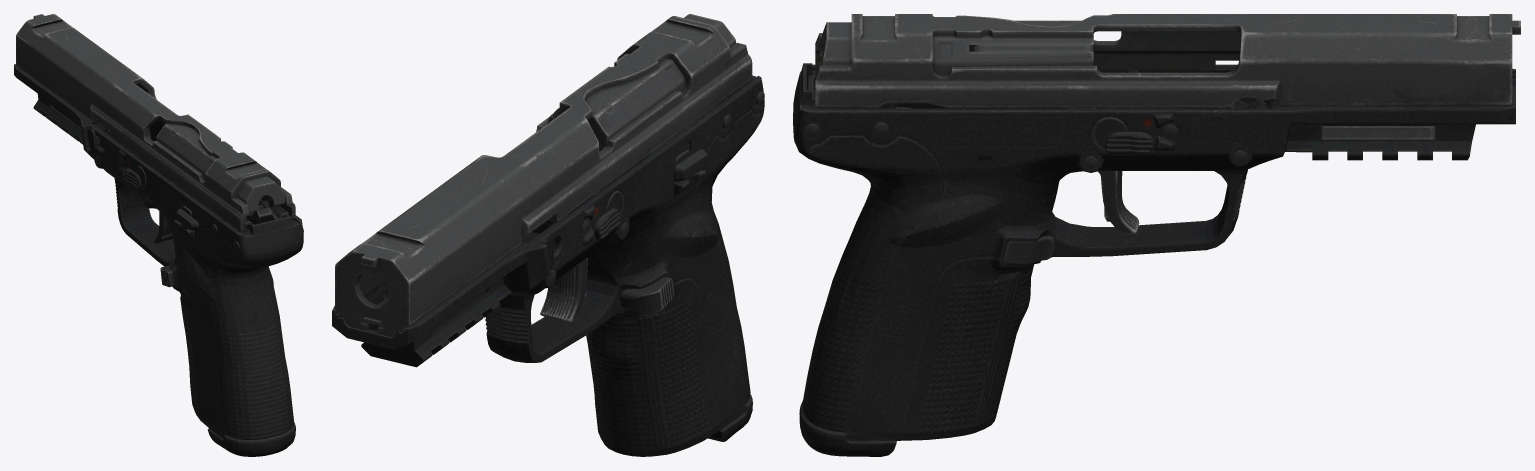
The picture shows the model from 3 angles, left to right: view 1: azimuth 30°, elevation 25°; view 2: azimuth 150°, elevation 25°; view 3: azimuth 270°, elevation 25°; orthographic projection. The views are drawn at different scales.
Parts seen in each view (by area): view 1: TW_5d3eb3b0a4b93615055e84d2_PZ_Import; view 2: TW_5d3eb3b0a4b93615055e84d2_PZ_Import; view 3: TW_5d3eb3b0a4b93615055e84d2_PZ_Import.
Part boxes in pixels (left/top/right/bottom): TW_5d3eb3b0a4b93615055e84d2_PZ_Import: left=14, top=14, right=303, bottom=456; TW_5d3eb3b0a4b93615055e84d2_PZ_Import: left=332, top=14, right=764, bottom=456; TW_5d3eb3b0a4b93615055e84d2_PZ_Import: left=793, top=14, right=1520, bottom=456.
Bounding box in the file's own units: 0.0215 × 0.1205 × 0.0752.
1 material, 1 textured.
